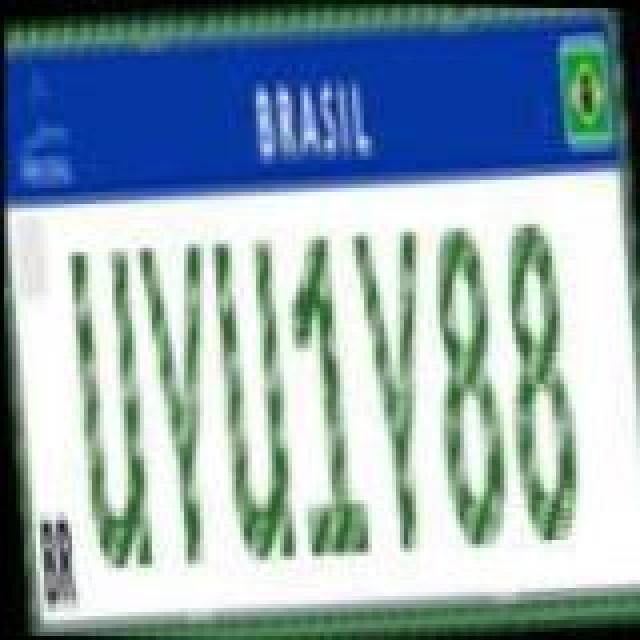1: (276, 228, 376, 560)
8: (416, 218, 516, 550), (488, 218, 588, 550)
U: (56, 240, 156, 576), (200, 228, 300, 564)
Y: (126, 242, 230, 574), (342, 226, 446, 550)
